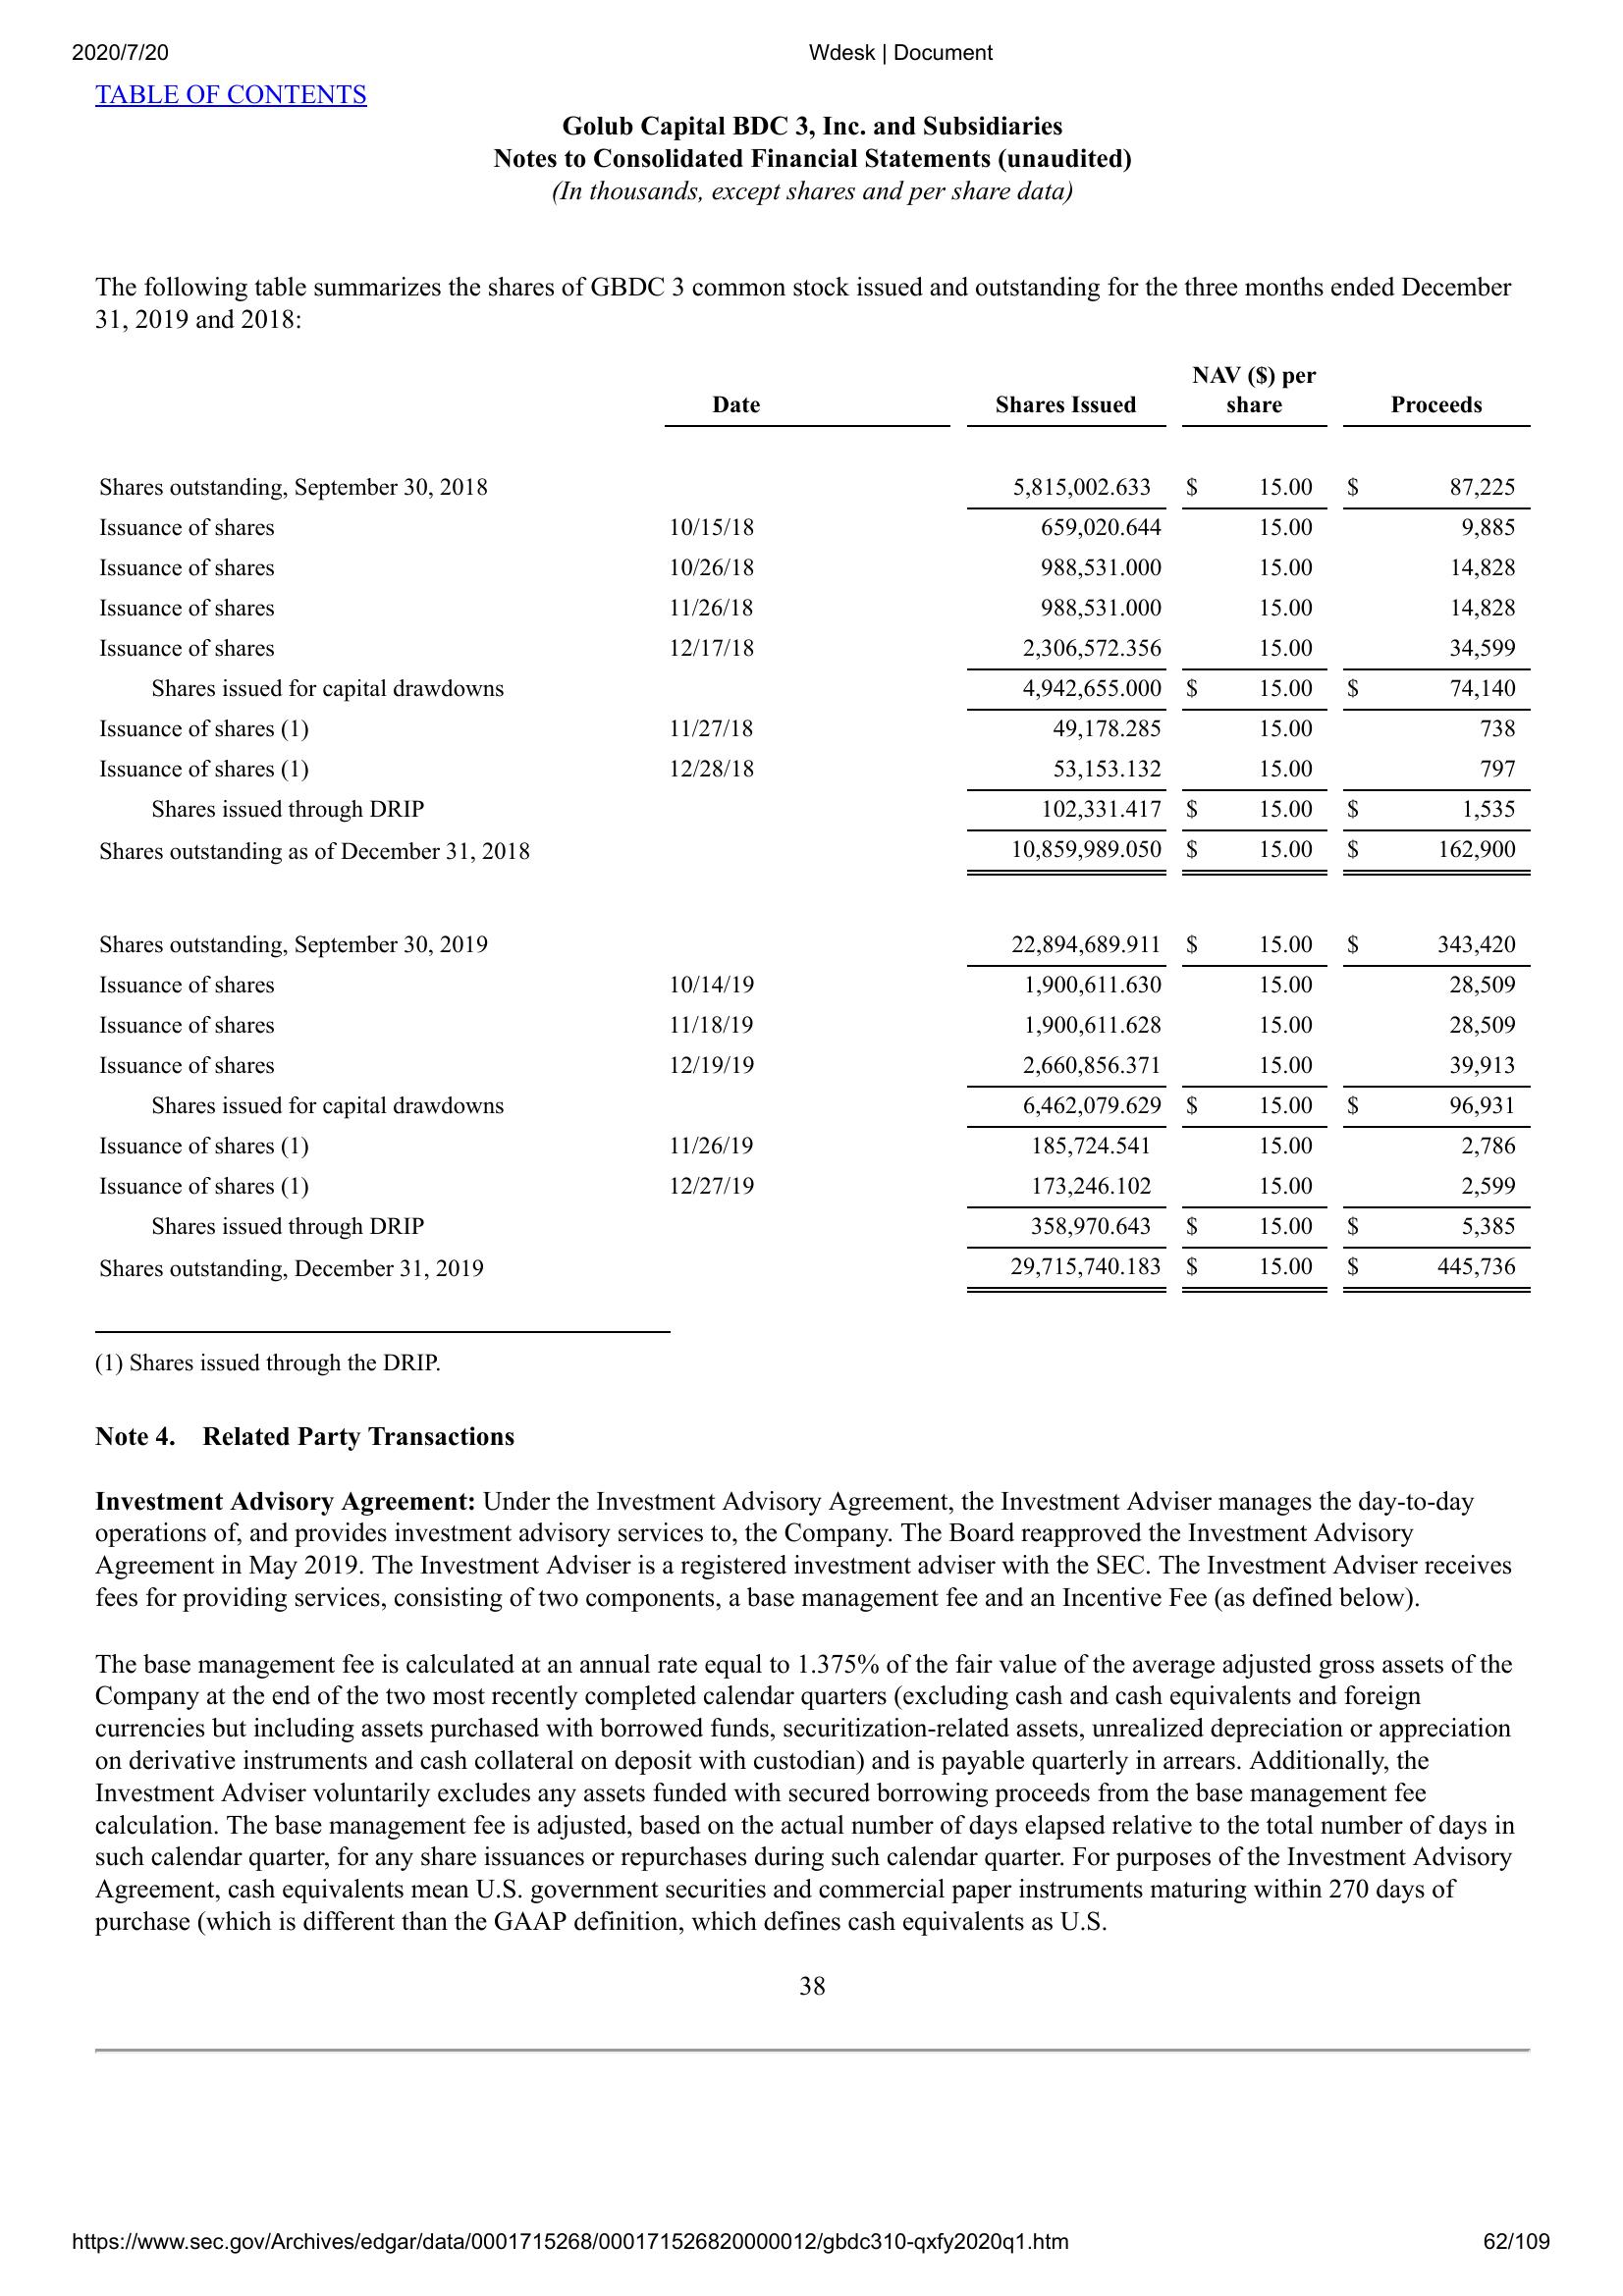table: (97, 369, 1544, 1302)
